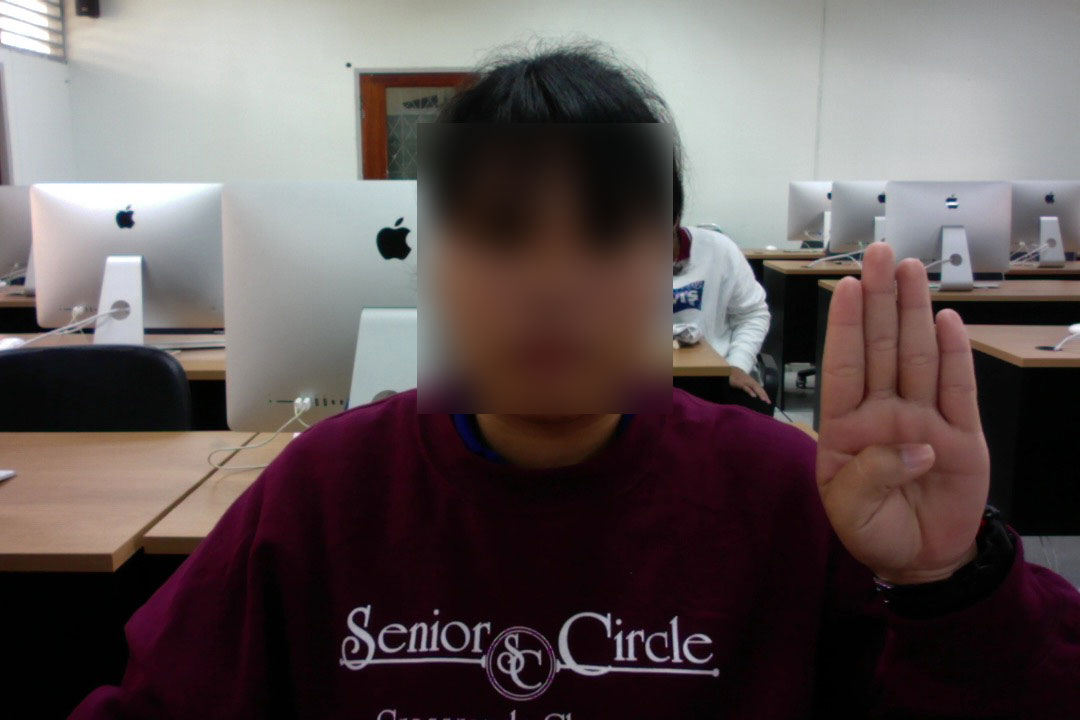bor: (812, 234, 996, 594)
